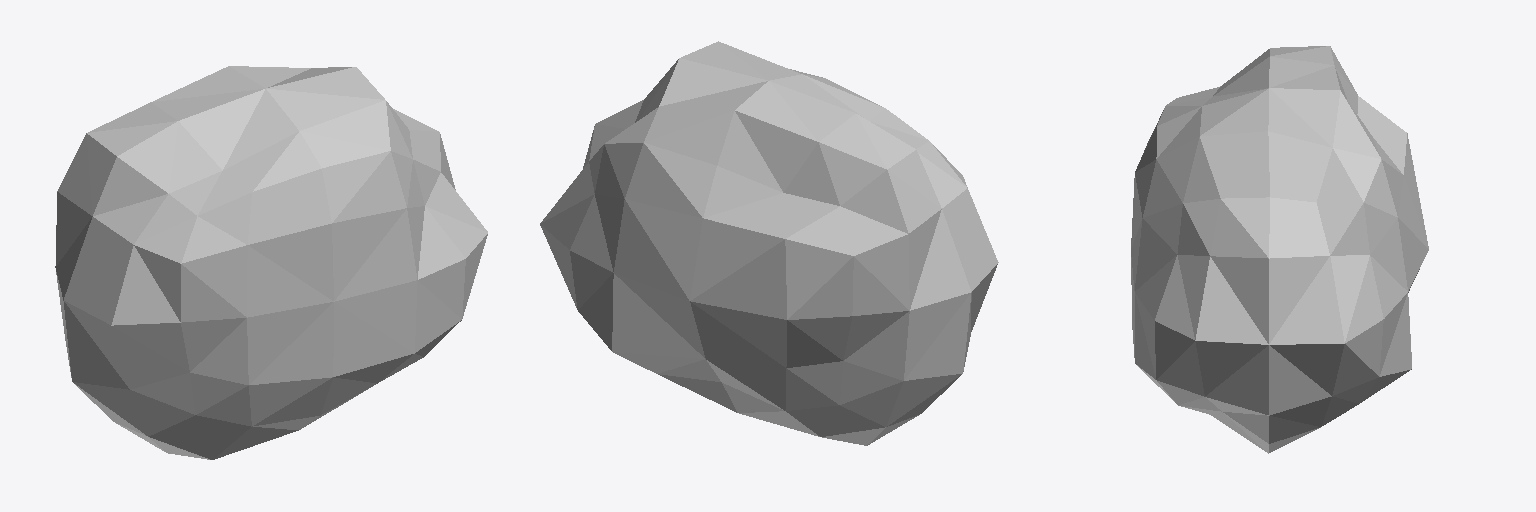
The model's file is O_IceWorldBoulder_a.obj.
3 views of the same model, side by side, from view 1: azimuth 30°, elevation 25°; view 2: azimuth 150°, elevation 25°; view 3: azimuth 270°, elevation 25° (orthographic).
Visible parts, largest first — view 1: O_IceWorldBoulder_a; view 2: O_IceWorldBoulder_a; view 3: O_IceWorldBoulder_a.
Boxes of the visible parts, <box> form: O_IceWorldBoulder_a: <box>55,66,487,459</box>; O_IceWorldBoulder_a: <box>540,41,998,445</box>; O_IceWorldBoulder_a: <box>1131,46,1428,453</box>.
Bounding box in the file's own units: 114 × 94.19 × 74.53.